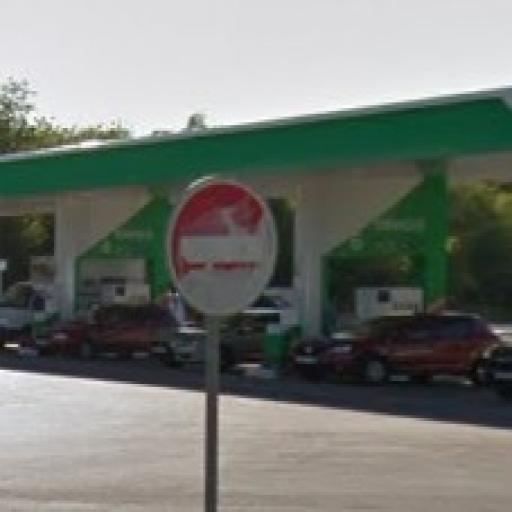traffic_sign: (168, 178, 278, 320)
